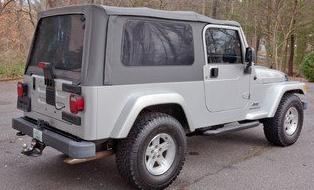SUV: (12, 5, 306, 189)
